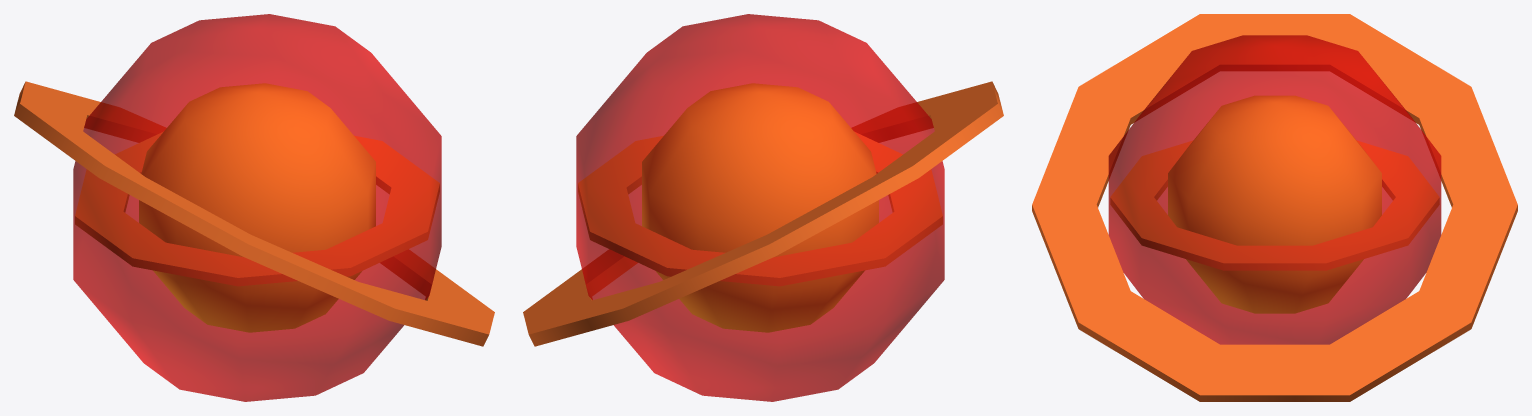
The model's file is Enemy_Attack10.obj.
The picture shows the model from 3 angles, left to right: view 1: azimuth 30°, elevation 25°; view 2: azimuth 150°, elevation 25°; view 3: azimuth 270°, elevation 25°; orthographic projection. The views are drawn at different scales.
Parts seen in each view (by area): view 1: Sphere002, Sphere001, Tube001, Tube002; view 2: Sphere002, Sphere001, Tube001, Tube002; view 3: Sphere002, Tube001, Sphere001, Tube002.
Boxes of the visible parts, box(x1,y1,x2,y2) form: Sphere002: box(73, 14, 441, 401); Sphere001: box(139, 83, 375, 332); Tube001: box(14, 81, 494, 346); Tube002: box(75, 131, 439, 286); Sphere002: box(576, 14, 944, 401); Sphere001: box(642, 83, 878, 332); Tube001: box(523, 81, 1003, 346); Tube002: box(578, 131, 942, 286); Sphere002: box(1108, 35, 1441, 344); Tube001: box(1032, 14, 1517, 401); Sphere001: box(1168, 95, 1381, 313); Tube002: box(1110, 140, 1439, 270).
Size of the model in its own units: 26.38 by 22.83 by 31.73.
